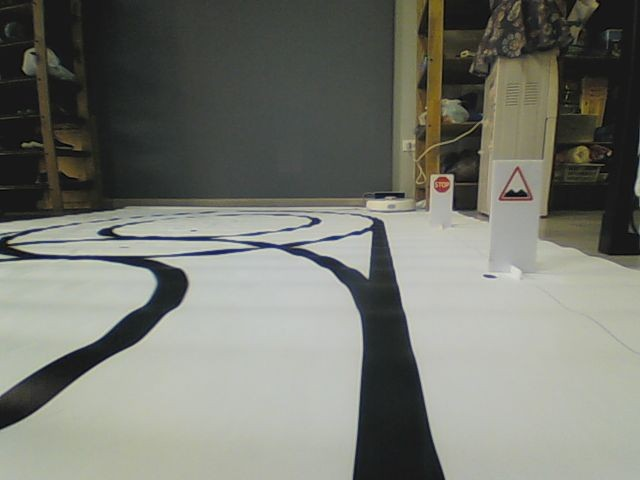Nerov: (496, 164, 534, 201)
Stop: (433, 176, 450, 193)
